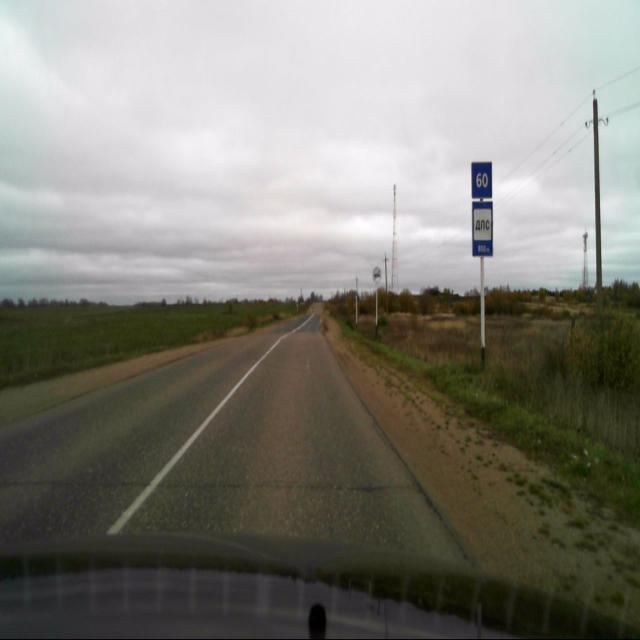object: (481, 259, 486, 372), (376, 289, 379, 341)
road sign: (472, 200, 494, 257), (471, 161, 492, 200)
